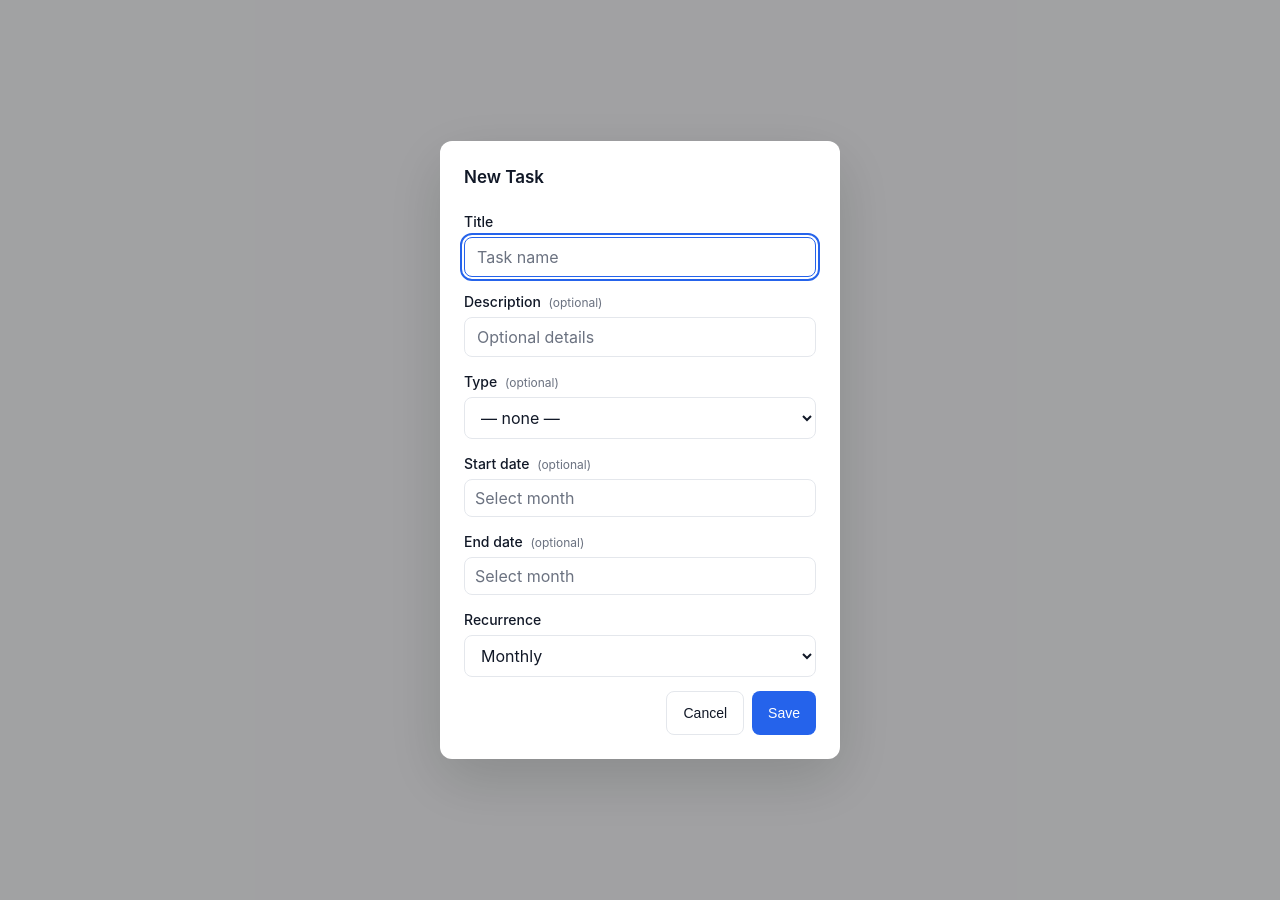
TaskForm › rendering › shows amount field when type is payment
Select "Payment" in the dropdown labelled "Type (optional)" at (640, 418), box [464,397,816,439]
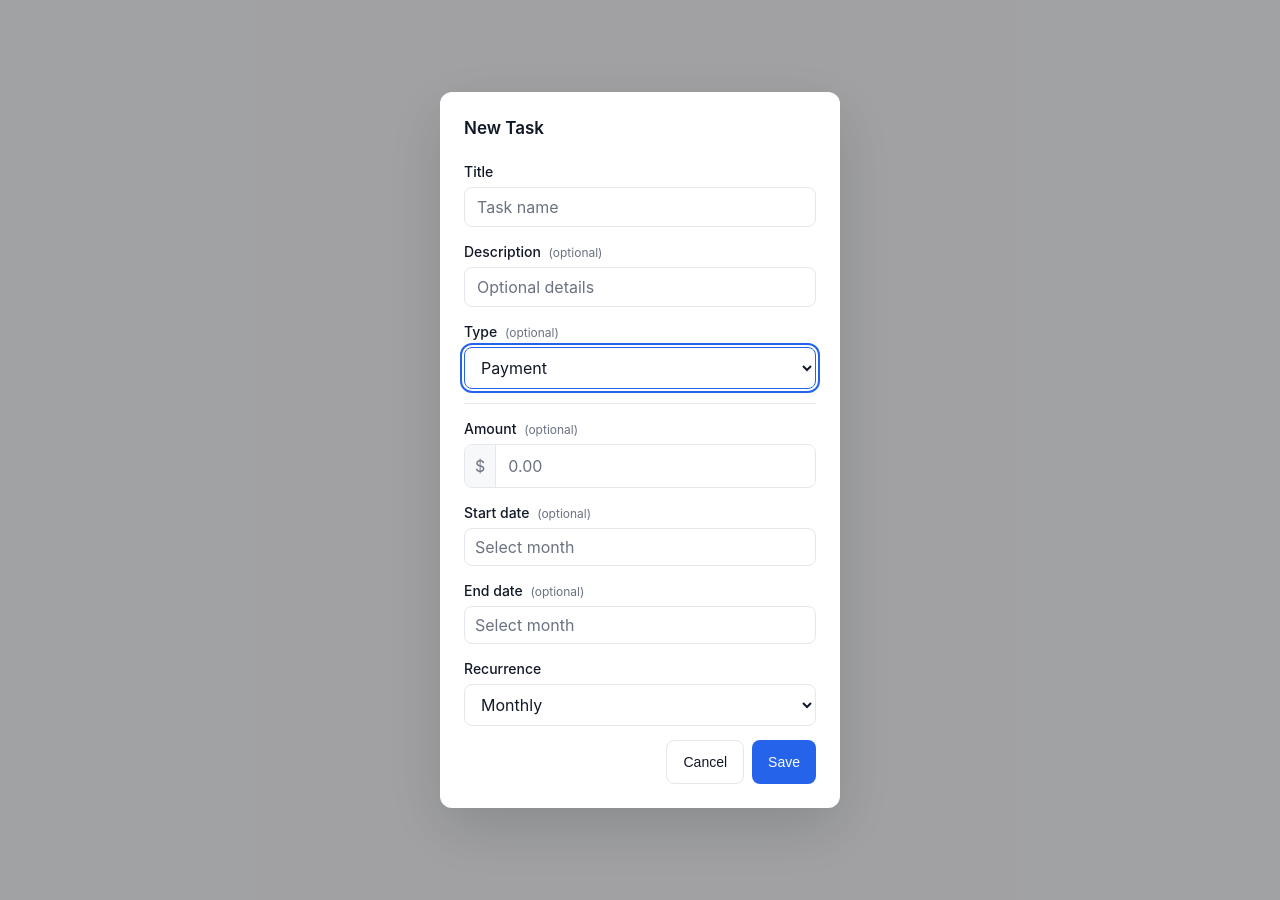
Check: the field labelled "Amount (optional)" is shown, box [496,447,815,485]
